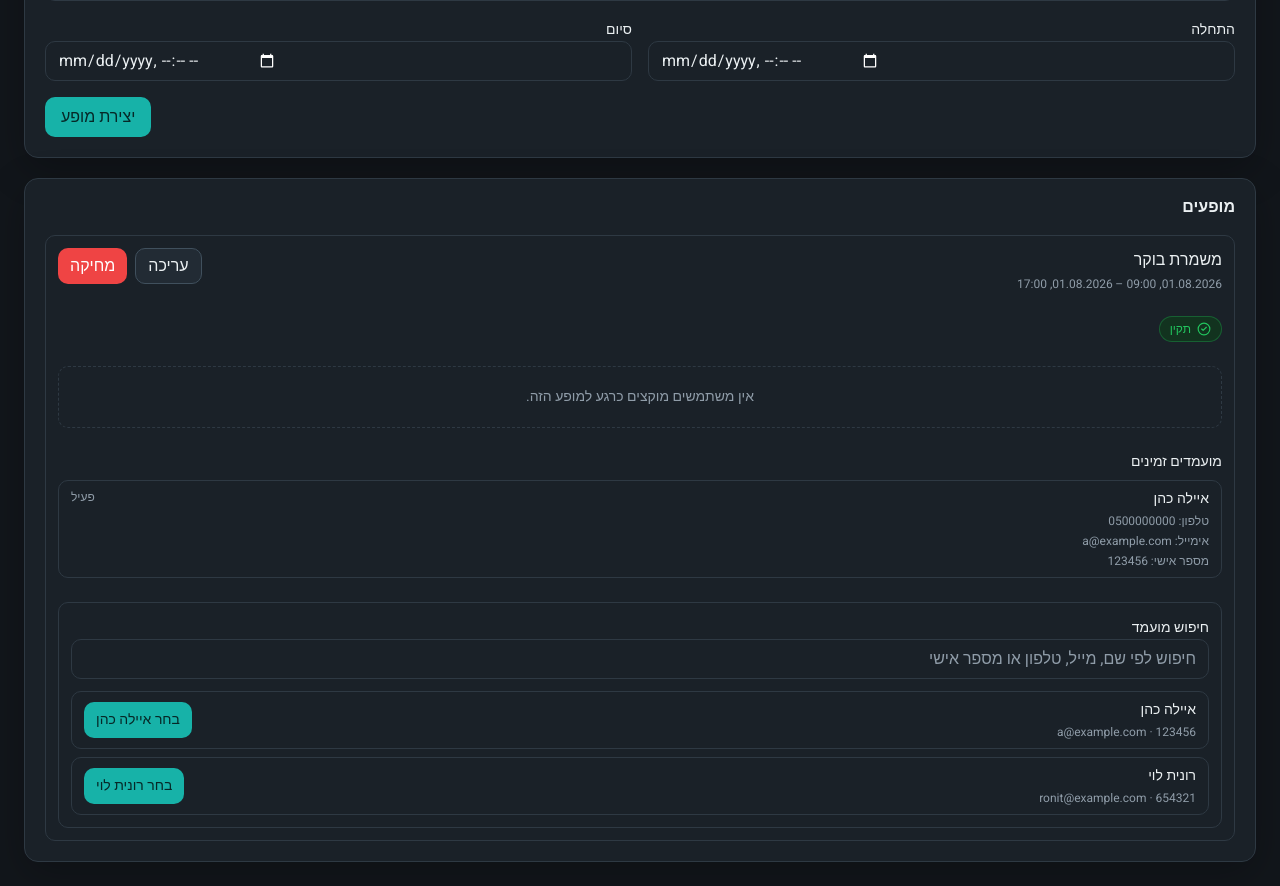
Scenario: ActivityTaskInstancesPage › does not show an assign action before a user is selected and shows it after a valid evaluation
This screenshot has width=1280, height=886.
(page scrolled)
Expected: the button "הקצה מועמד" is not shown
Type "רונית" into the field labelled "חיפוש מועמד" at {"x": 640, "y": 659}, box [71,639,1209,679]
(page scrolled)
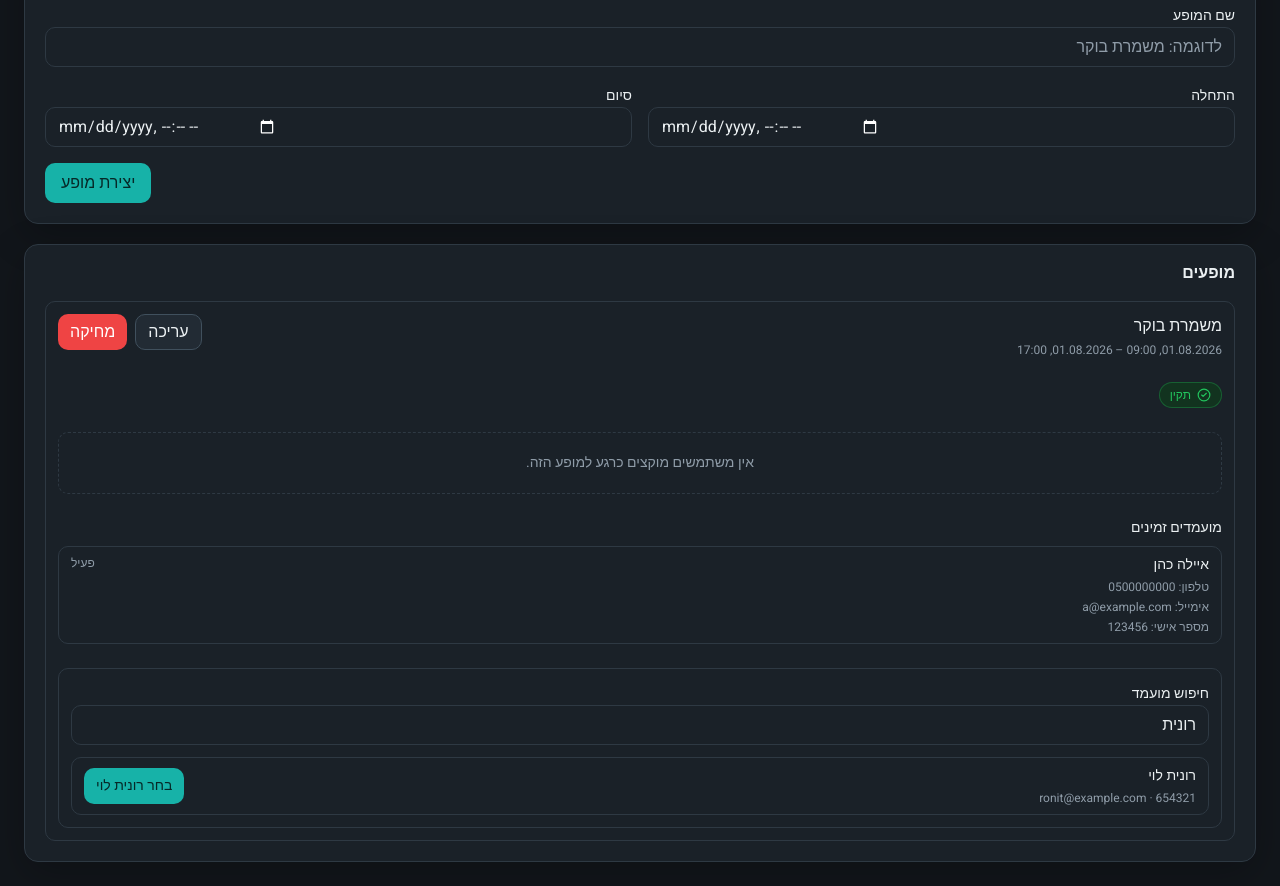
Click the button "בחר רונית לוי" at {"x": 134, "y": 786}, box [84,768,184,804]
(page scrolled)
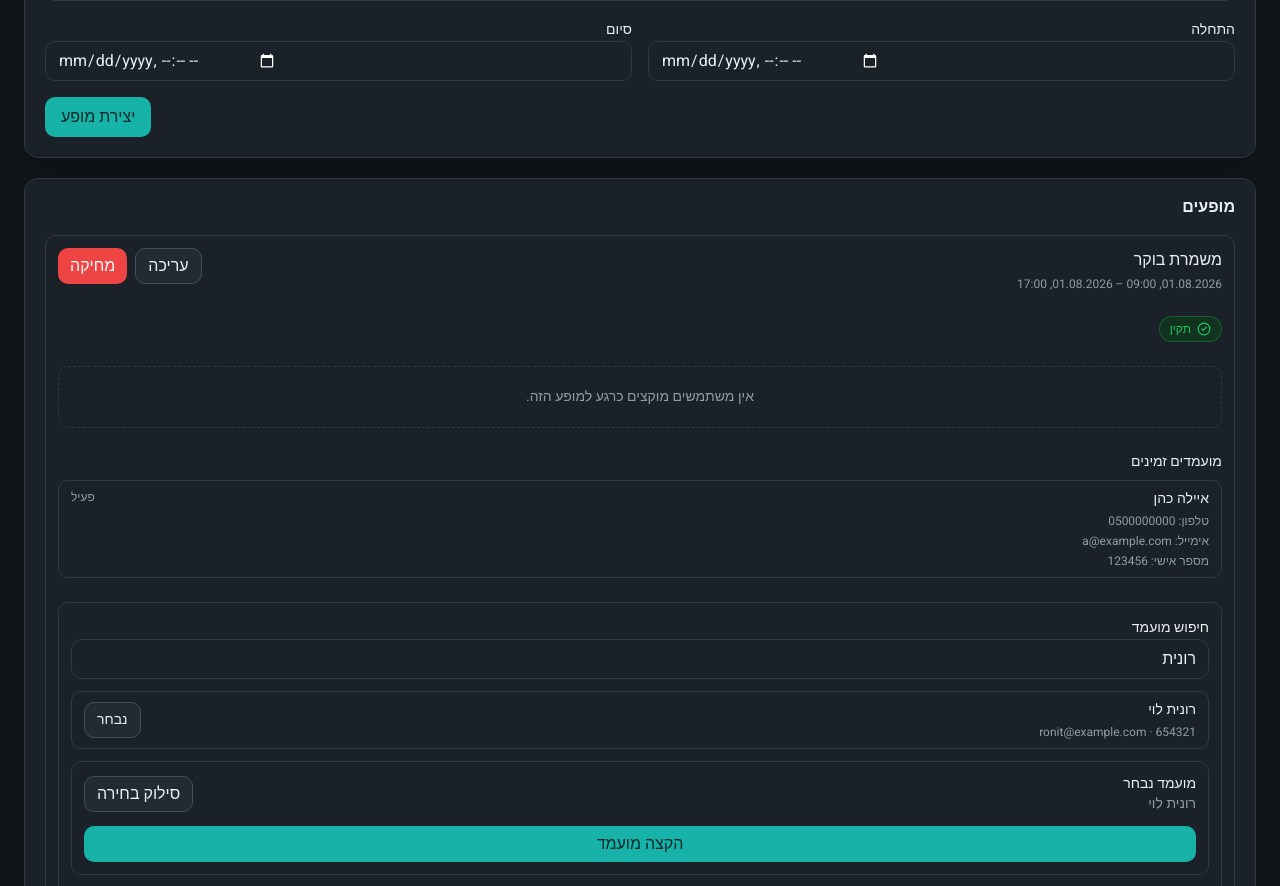
Expected: the button "הקצה מועמד" is shown, [84,826,1196,862]
